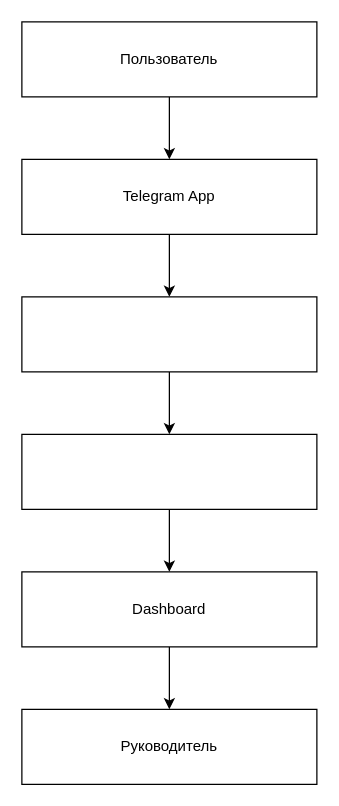
The diagram is 339 pixels wide and 806 high, and some of its shapes have lost their labels. Each missing label, with the centre of its shape:
GoogleSheets: the point at 169,471
Форма ввода: the point at 169,334
